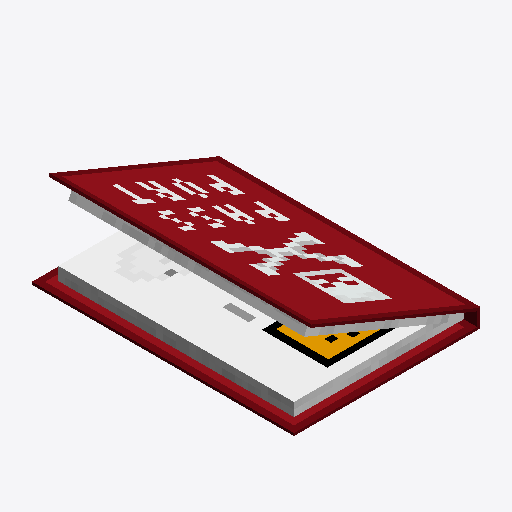
Isometric view (azimuth 45°, elevation 35.3°) of a Minecraft model made of 5 cuboids, textured from the same repository.
Visible parts, largest first — front_cover, back_pages, back_cover, front_pages, spine.
Part boxes in pixels (x1,y1,x2,y2): front_cover: (49, 157, 477, 327); back_pages: (58, 230, 463, 416); back_cover: (32, 267, 476, 435); front_pages: (68, 190, 463, 336); spine: (216, 156, 479, 329).
Size of the model in its own units: 7.1 by 3.35 by 10.